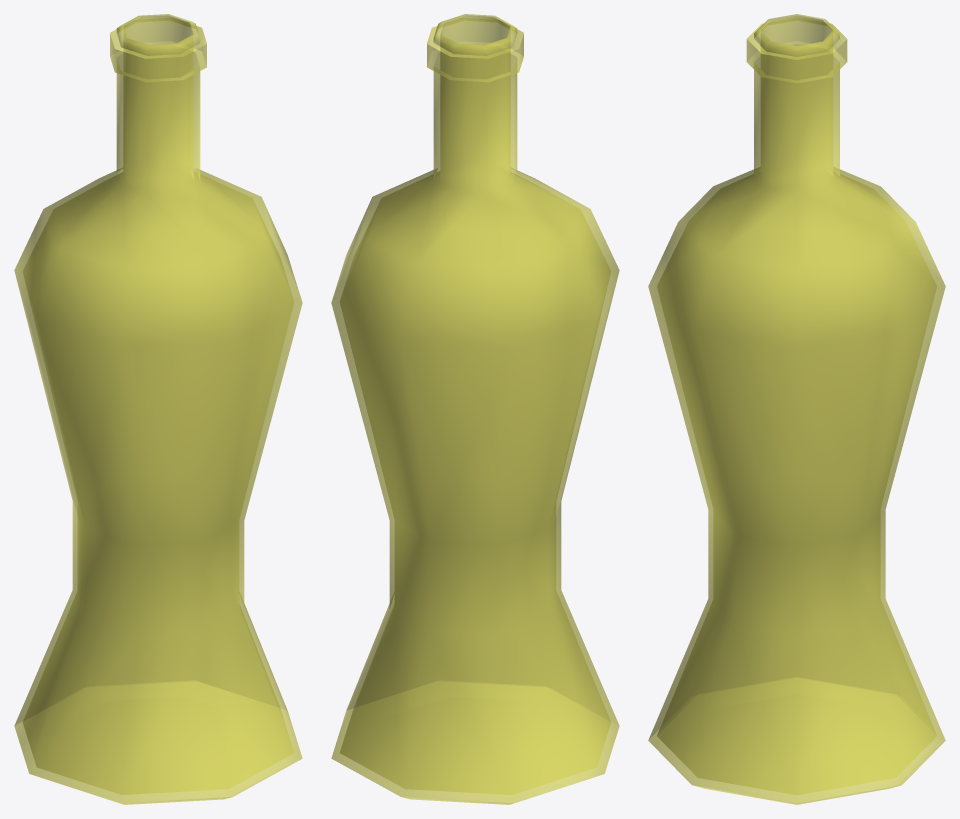
File: PROP_013_Bottles_O.fbx
3 renders of one model, left to right at view 1: azimuth 30°, elevation 25°; view 2: azimuth 150°, elevation 25°; view 3: azimuth 270°, elevation 25°, orthographic.
Parts seen in each view (by area): view 1: Cuadrado_015; view 2: Cuadrado_015; view 3: Cuadrado_015.
Boxes of the visible parts, box(x1,y1,x2,y2) form: Cuadrado_015: box(14, 14, 302, 804); Cuadrado_015: box(331, 14, 619, 804); Cuadrado_015: box(648, 14, 945, 804).
Bounding box in the file's own units: 0.1782 × 0.4753 × 0.1782.
